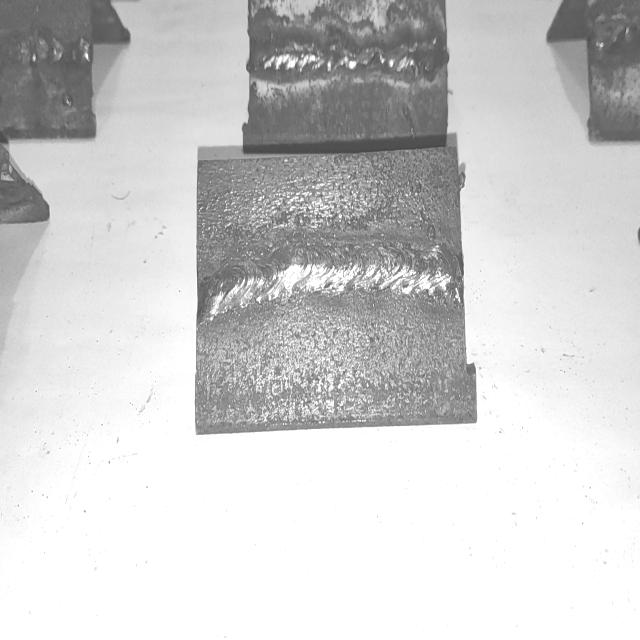Bad Weld: (252, 37, 448, 77), (0, 33, 91, 74)
Defect: (0, 35, 92, 67), (356, 27, 401, 84), (594, 8, 640, 62)
Good Weld: (201, 244, 457, 313)
